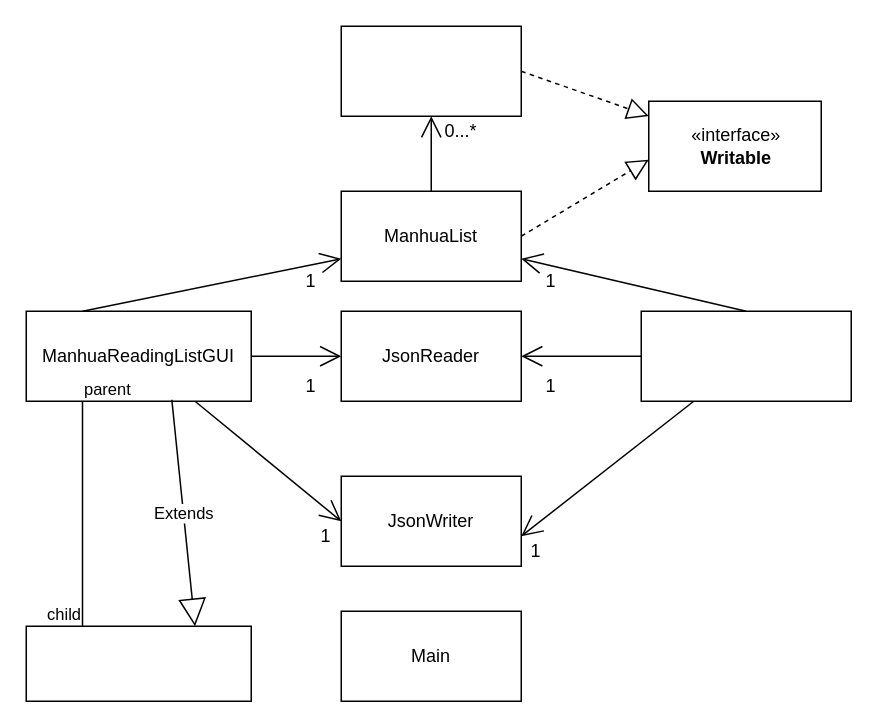
The diagram is 878 pixels wide and 728 high, and some of its shapes have lost their labels. The shapes that lost their labels are listed below. From the top down, each one's centre as x and y in pixels, then its label:
At point 430,70: "Manhua".
At point 745,355: "ManhuaReadingListApp".
At point 138,663: "JFrame".
